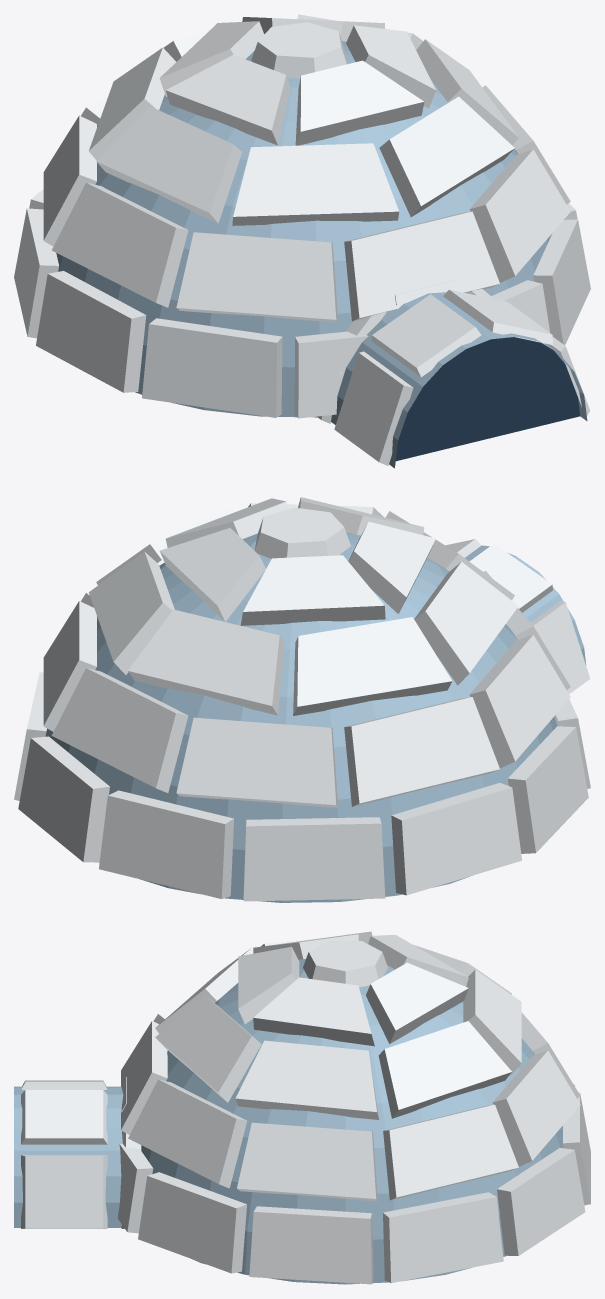
File: igloo-small.glb
The picture shows the model from 3 angles, top to bottom: view 1: azimuth 30°, elevation 25°; view 2: azimuth 150°, elevation 25°; view 3: azimuth 270°, elevation 25°; orthographic projection. The views are drawn at different scales.
Parts seen in each view (by area): view 1: igloo-small; view 2: igloo-small; view 3: igloo-small.
Boxes of the visible parts, left/top/right/bottom form: igloo-small: left=14, top=14, right=590, bottom=468; igloo-small: left=14, top=497, right=590, bottom=902; igloo-small: left=14, top=931, right=590, bottom=1284.
Bounding box in the file's own units: 0.4785 × 0.2428 × 0.5483.
